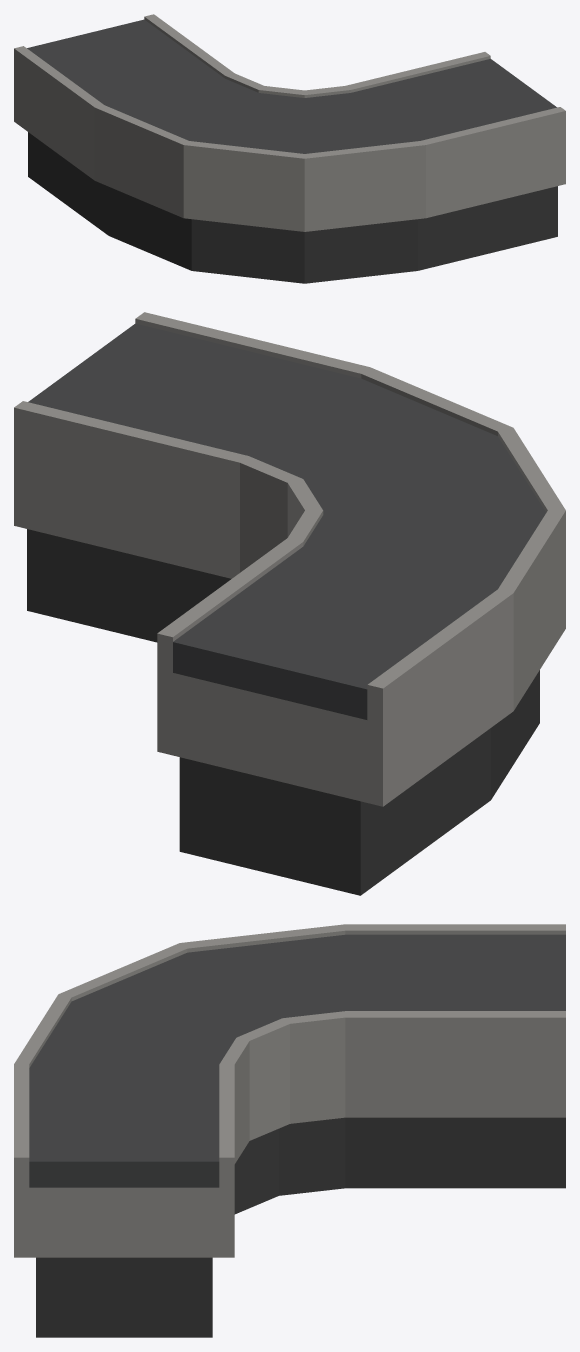
File: SM_Props_Interior_Generic_Factory_Conveyor_Corner.fbx
3 views of the same model, one above another, from view 1: azimuth 30°, elevation 25°; view 2: azimuth 150°, elevation 25°; view 3: azimuth 270°, elevation 25° (orthographic). The views are drawn at different scales.
Visible parts, largest first — view 1: SM_Props_Interior_Generic_Factory_Conveyor_Corner; view 2: SM_Props_Interior_Generic_Factory_Conveyor_Corner; view 3: SM_Props_Interior_Generic_Factory_Conveyor_Corner.
Boxes of the visible parts, bbox=[...] form: SM_Props_Interior_Generic_Factory_Conveyor_Corner: bbox=[14, 14, 565, 283]; SM_Props_Interior_Generic_Factory_Conveyor_Corner: bbox=[14, 312, 565, 895]; SM_Props_Interior_Generic_Factory_Conveyor_Corner: bbox=[14, 924, 565, 1337].
Bounding box in the file's own units: 250 × 90 × 250.
